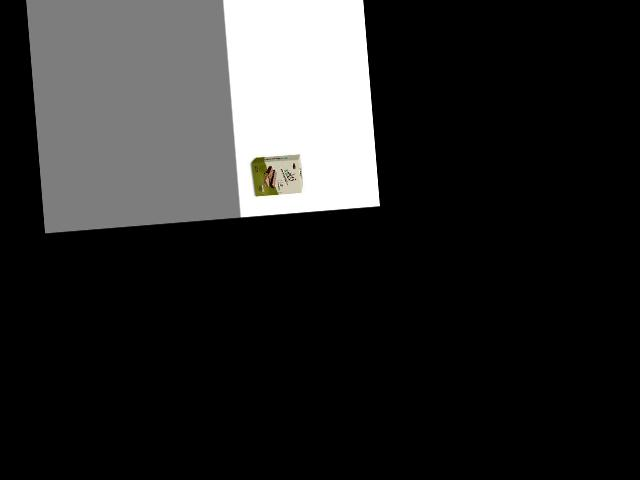chocolate: (249, 151, 304, 197)
